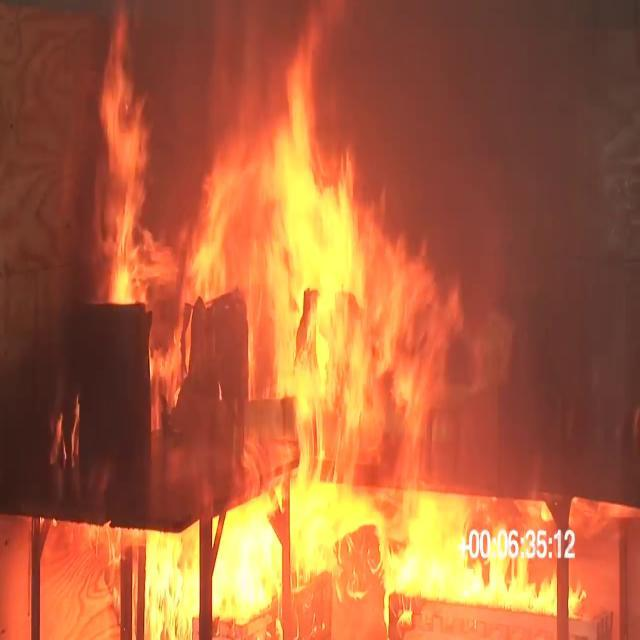Fire: (51, 534, 640, 640), (280, 213, 457, 454), (238, 115, 338, 388), (81, 51, 150, 304), (212, 493, 282, 631), (39, 521, 120, 640), (148, 521, 202, 639), (190, 242, 224, 305)
Smoke: (475, 36, 618, 359), (362, 5, 526, 216), (530, 310, 626, 483), (148, 10, 206, 218)
